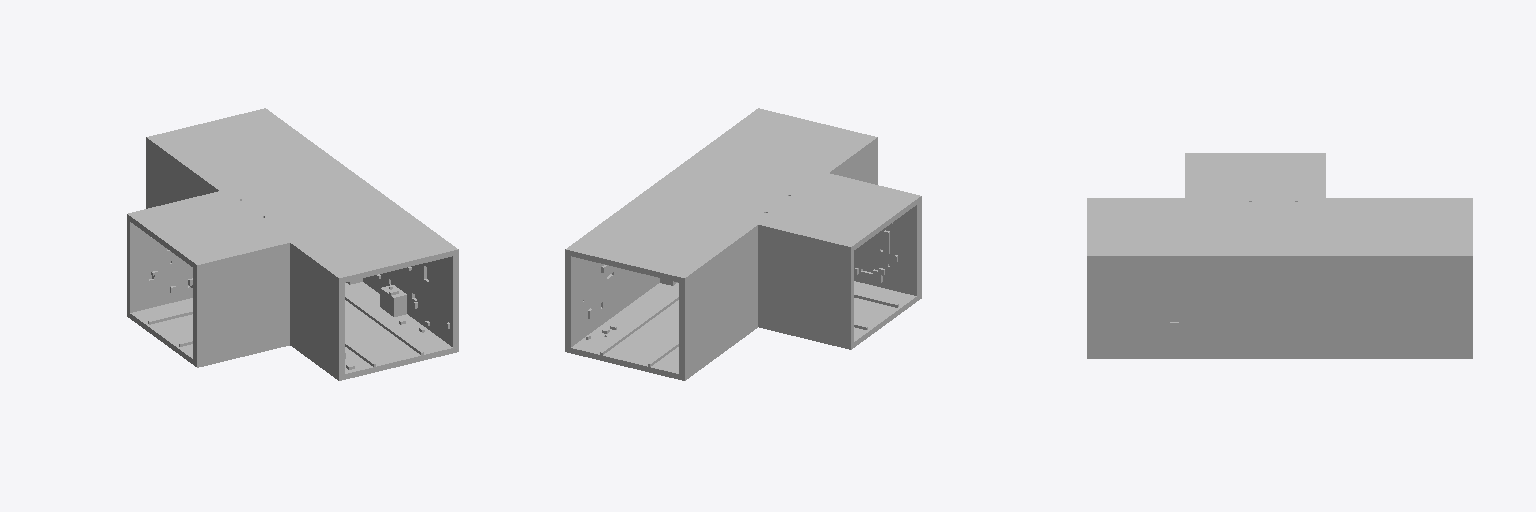
Rendered from Lvl2 T.obj.
3 views of the same model, side by side, from view 1: azimuth 30°, elevation 25°; view 2: azimuth 150°, elevation 25°; view 3: azimuth 270°, elevation 25° (orthographic).
Visible parts, largest first — view 1: Lvl2 T; view 2: Lvl2 T; view 3: Lvl2 T.
Part boxes in pixels (x1,y1,x2,y2): Lvl2 T: (127, 108, 458, 380); Lvl2 T: (565, 108, 921, 380); Lvl2 T: (1087, 153, 1472, 358).
Bounding box in the file's own units: 80 × 37 × 126.